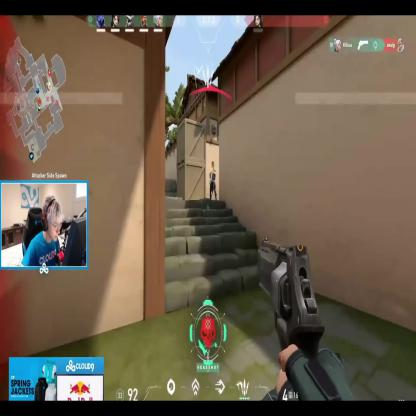enemy: (209, 159, 216, 200)
enemy_head: (211, 160, 214, 170)
